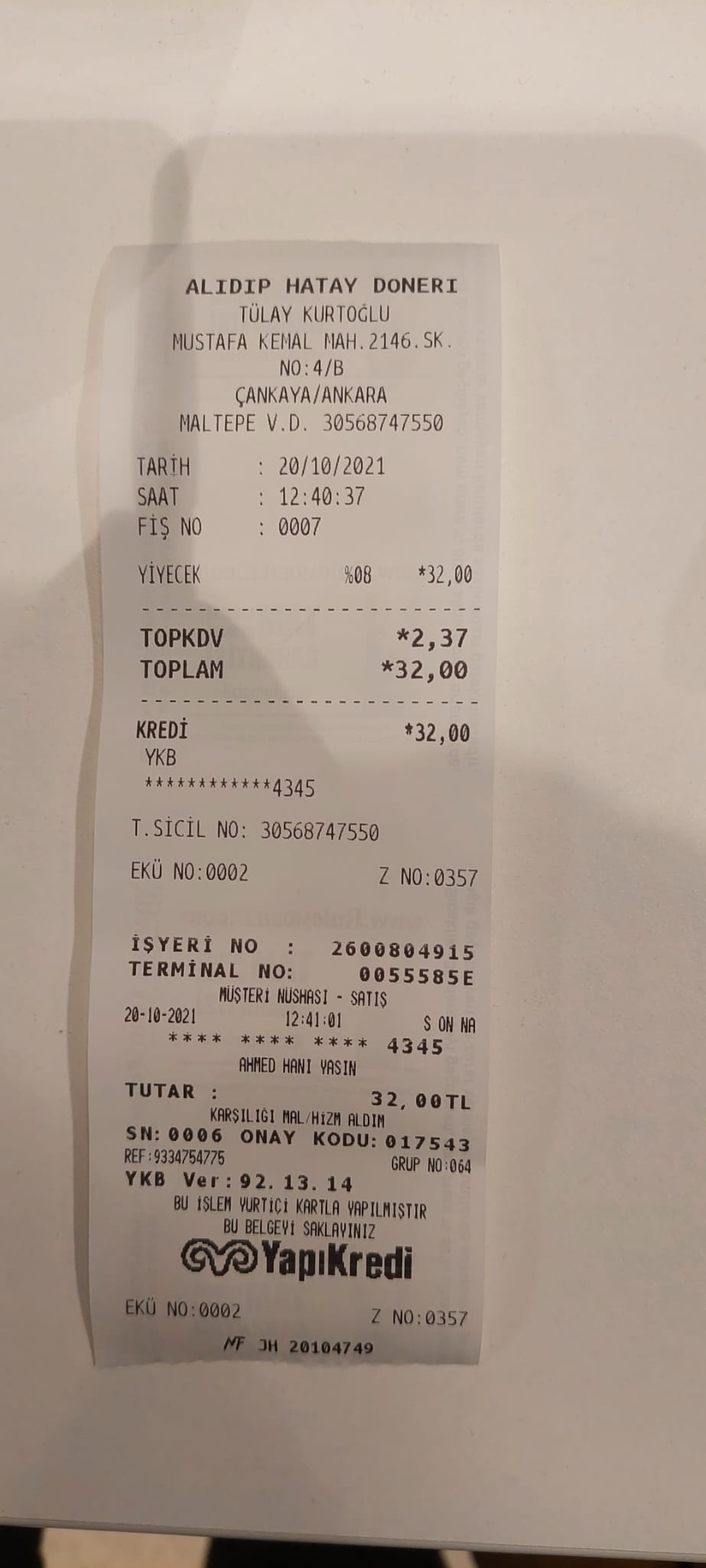date: (271, 449, 390, 484)
price: (392, 652, 482, 686)
workplace: (160, 268, 466, 408)
